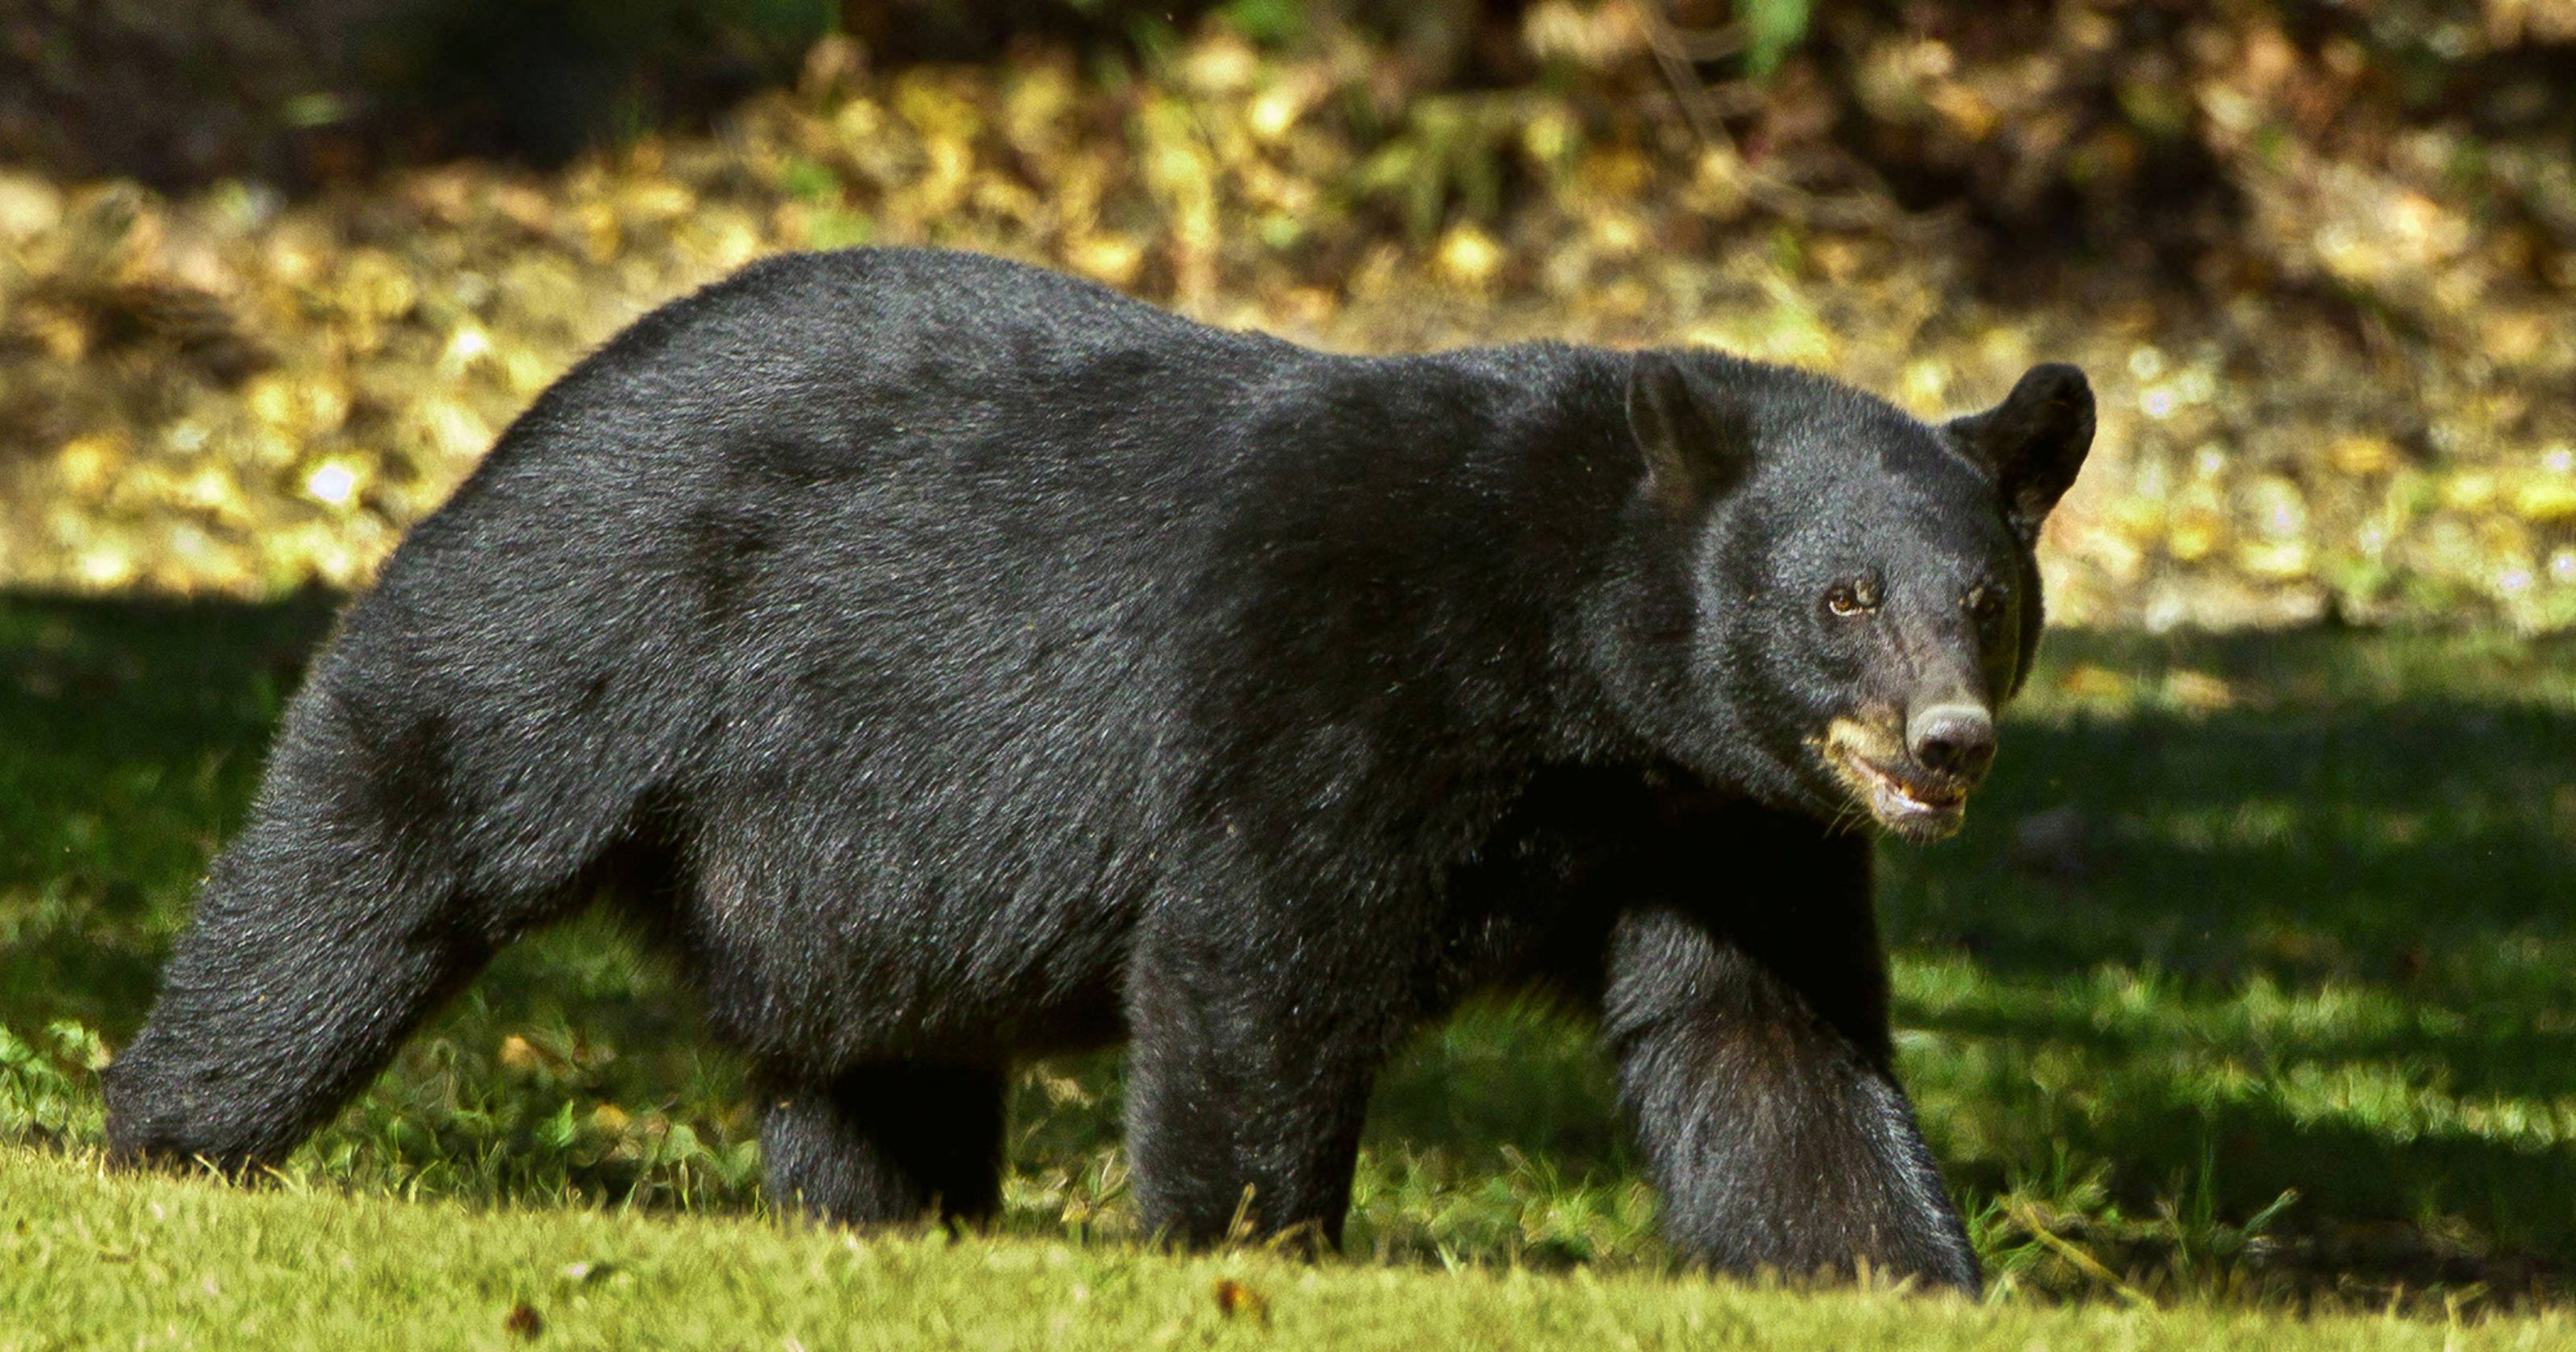bear: (68, 250, 2125, 1292)
